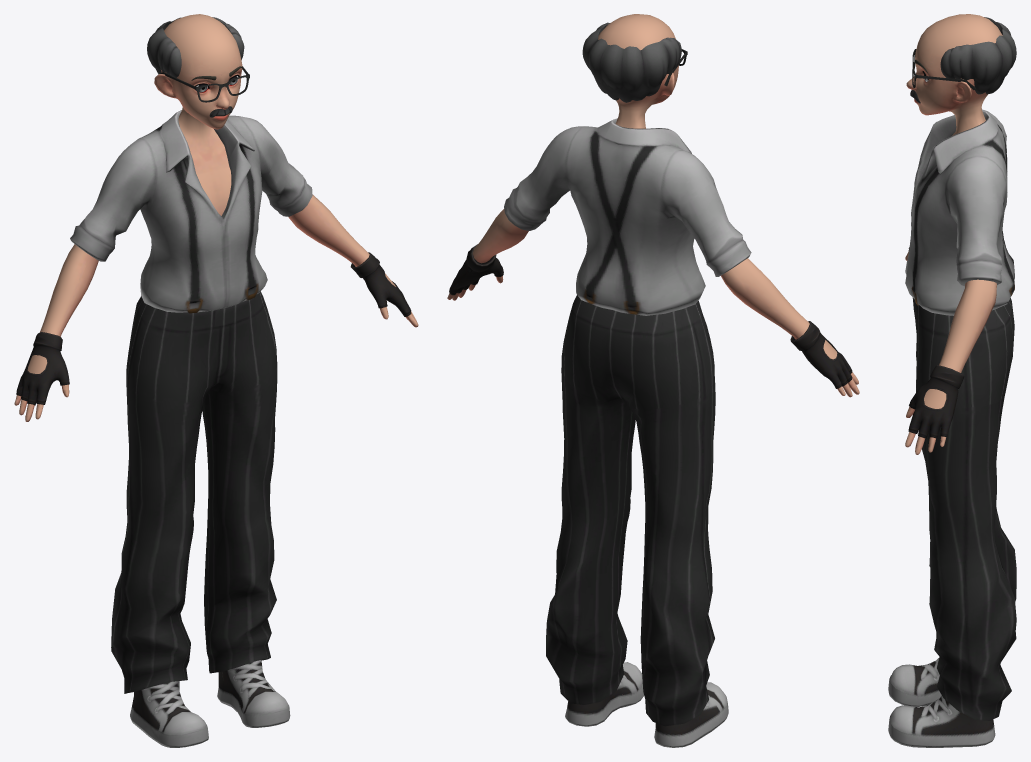
Rendered from StaffOsman_Mesh.obj.
The picture shows the model from 3 angles, left to right: view 1: azimuth 30°, elevation 25°; view 2: azimuth 150°, elevation 25°; view 3: azimuth 270°, elevation 25°; orthographic projection. The views are drawn at different scales.
Parts seen in each view (by area): view 1: StaffOsman_Mesh_0; view 2: StaffOsman_Mesh_0; view 3: StaffOsman_Mesh_0.
Boxes of the visible parts, bbox=[...] form: StaffOsman_Mesh_0: bbox=[14, 14, 418, 747]; StaffOsman_Mesh_0: bbox=[447, 14, 859, 747]; StaffOsman_Mesh_0: bbox=[888, 14, 1016, 747].
Size of the model in its own units: 1.06 by 1.79 by 0.2966.
Materials: 1 (1 with a texture image).
